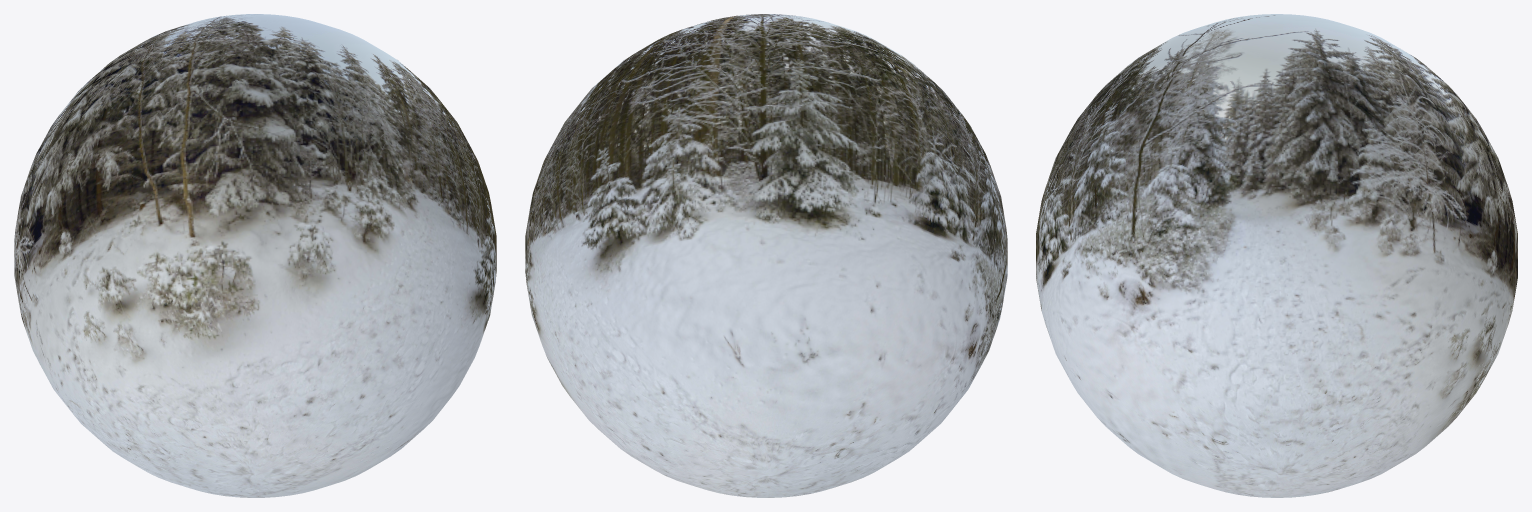
File: sky.glb
The picture shows the model from 3 angles, left to right: view 1: azimuth 30°, elevation 25°; view 2: azimuth 150°, elevation 25°; view 3: azimuth 270°, elevation 25°; orthographic projection.
Visible parts, largest first — view 1: PanoSphere; view 2: PanoSphere; view 3: PanoSphere.
Part boxes in pixels (bbox=[...]): PanoSphere: bbox=[14, 14, 496, 497]; PanoSphere: bbox=[525, 14, 1007, 497]; PanoSphere: bbox=[1036, 14, 1517, 497].
Bounding box in the file's own units: 9.97 × 10 × 9.95.
Materials: 1 (1 with a texture image).
